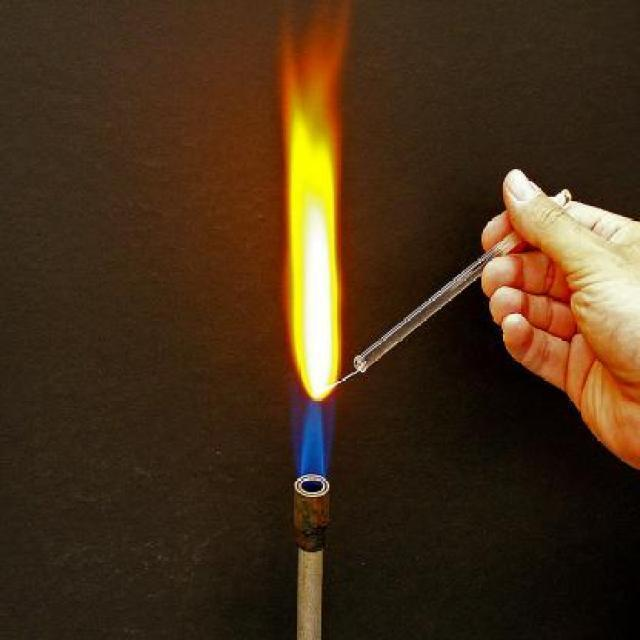fire: (280, 0, 350, 399), (299, 404, 329, 479)
